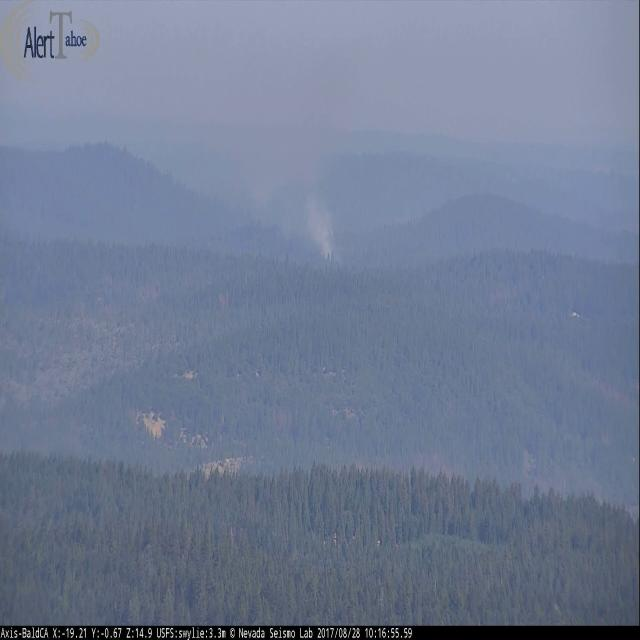smoke: (301, 188, 334, 258)
